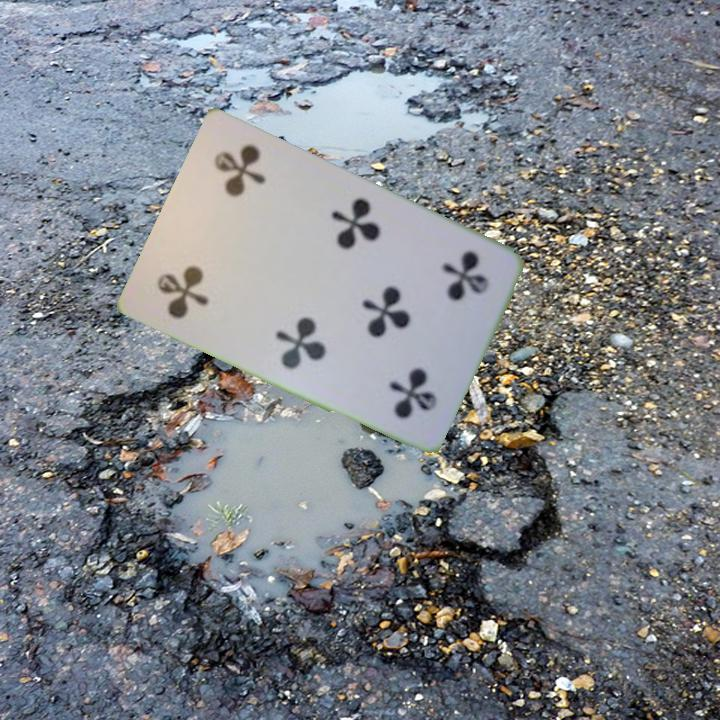c_7.png: (136, 212, 255, 337), (390, 228, 508, 353)
